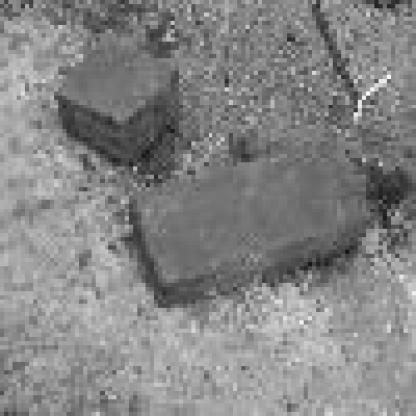brick: (129, 143, 371, 302), (54, 35, 178, 167)
